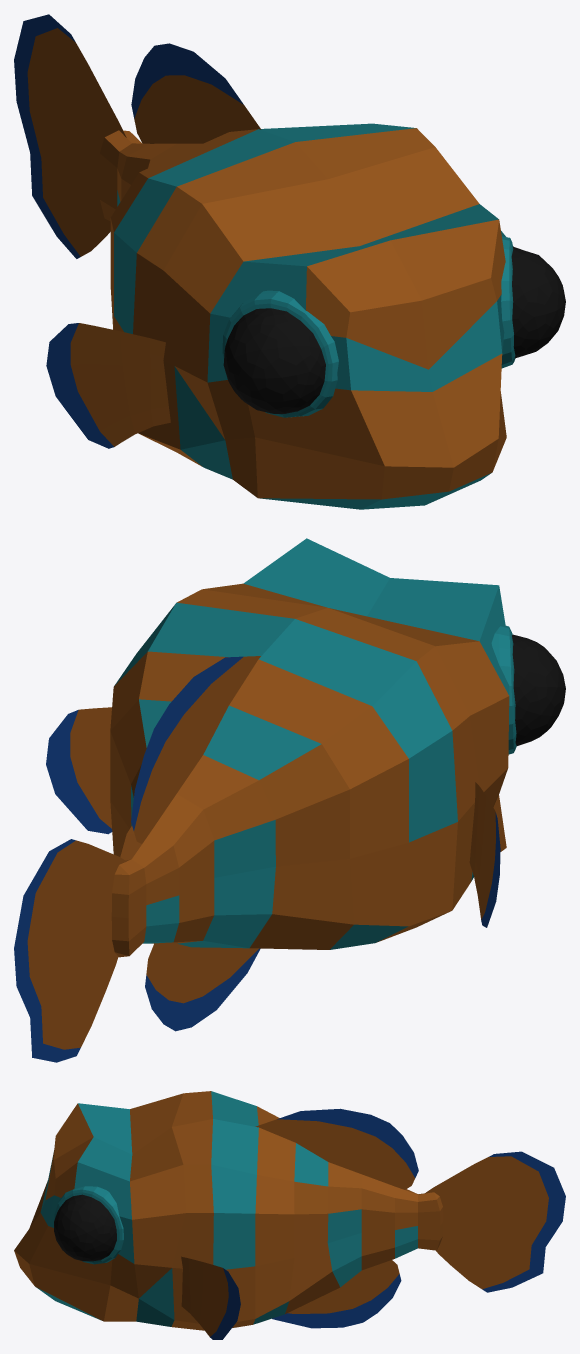
The model's file is Mandarin Fish.glb.
3 renders of one model, top to bottom at view 1: azimuth 30°, elevation 25°; view 2: azimuth 150°, elevation 25°; view 3: azimuth 270°, elevation 25°, orthographic. The views are drawn at different scales.
Parts seen in each view (by area): view 1: Mandarin Fish; view 2: Mandarin Fish; view 3: Mandarin Fish.
Part boxes in pixels (x1,y1,x2,y2): Mandarin Fish: [14, 14, 565, 509]; Mandarin Fish: [14, 538, 565, 1062]; Mandarin Fish: [14, 1091, 565, 1339].
Bounding box in the file's own units: 0.2906 × 0.2141 × 0.4879.
